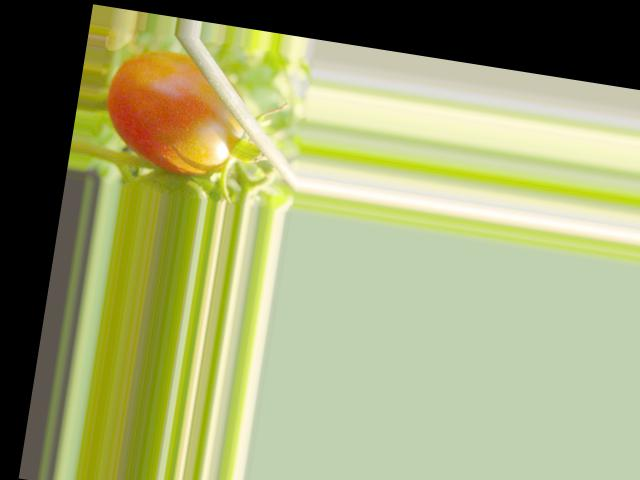tomato: (98, 44, 254, 180)
